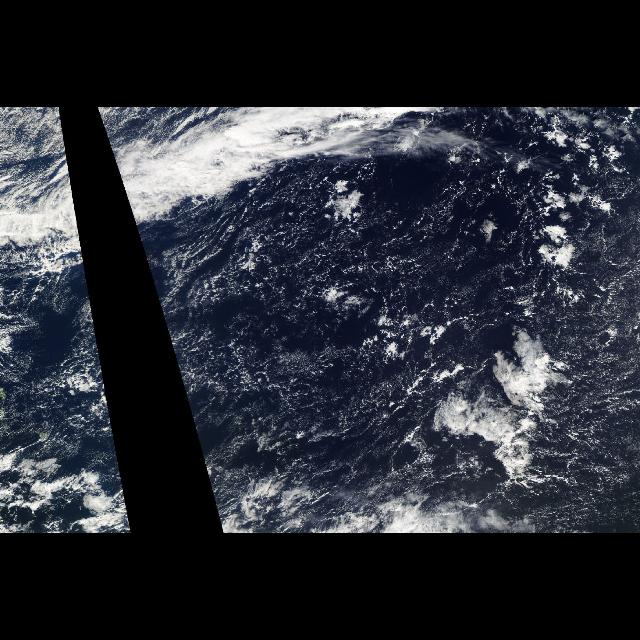Gravel: (142, 110, 634, 530), (3, 245, 129, 518)
